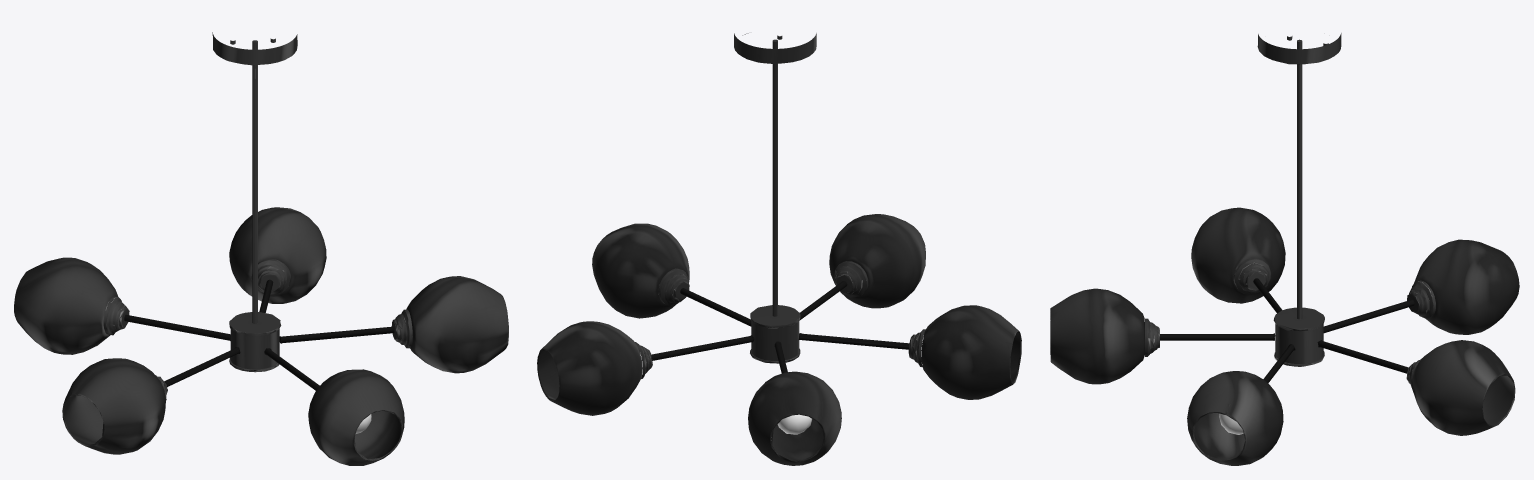
Rendered from Lighting_3f308c49-1bfb-4770-8571-a147581f65cc_5.glb.
3 renders of one model, left to right at view 1: azimuth 30°, elevation 25°; view 2: azimuth 150°, elevation 25°; view 3: azimuth 270°, elevation 25°, orthographic. The views are drawn at different scales.
Parts seen in each view (by area): view 1: Lighting_3f308c49-1bfb-4770-8571-a147581f65cc_5.obj; view 2: Lighting_3f308c49-1bfb-4770-8571-a147581f65cc_5.obj; view 3: Lighting_3f308c49-1bfb-4770-8571-a147581f65cc_5.obj.
Boxes of the visible parts, <box> form: Lighting_3f308c49-1bfb-4770-8571-a147581f65cc_5.obj: <box>14,32,508,465</box>; Lighting_3f308c49-1bfb-4770-8571-a147581f65cc_5.obj: <box>537,33,1021,465</box>; Lighting_3f308c49-1bfb-4770-8571-a147581f65cc_5.obj: <box>1050,33,1519,465</box>.
Size of the model in its own units: 0.2983 by 0.234 by 0.2851.
1 material, 1 textured.
